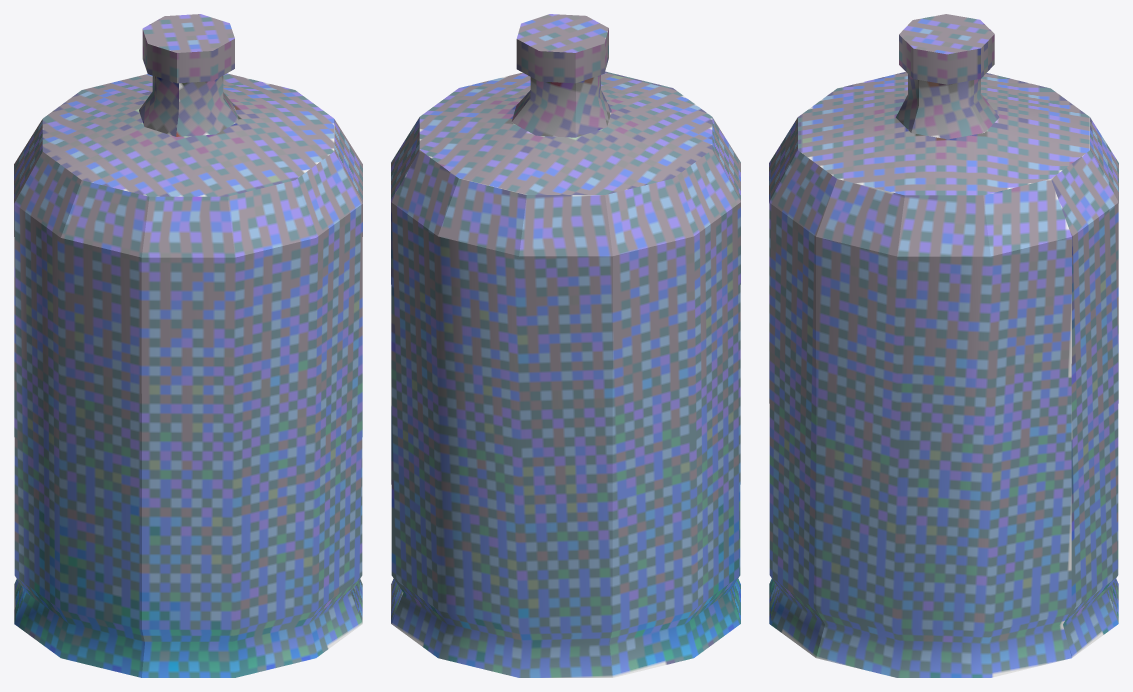
File: Garrafon.fbx
3 renders of one model, left to right at view 1: azimuth 30°, elevation 25°; view 2: azimuth 150°, elevation 25°; view 3: azimuth 270°, elevation 25°, orthographic.
Visible parts, largest first — view 1: Garrafon2; view 2: Garrafon2; view 3: Garrafon2.
Boxes of the visible parts, bbox=[...] form: Garrafon2: bbox=[14, 14, 362, 677]; Garrafon2: bbox=[391, 14, 740, 677]; Garrafon2: bbox=[769, 14, 1118, 677].
Size of the model in its own units: 1.69 by 3.04 by 1.69.
